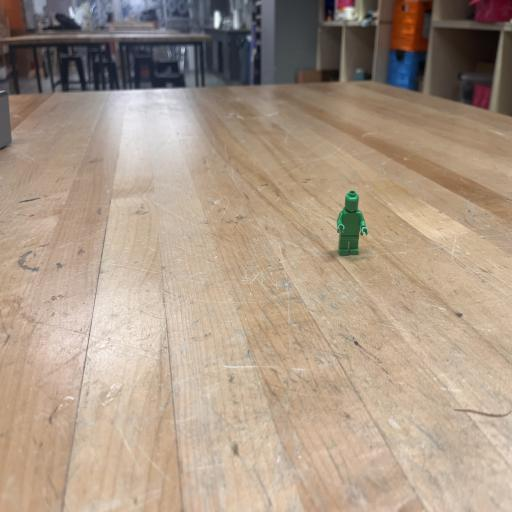Lego-Minifig: (337, 190, 368, 255)
